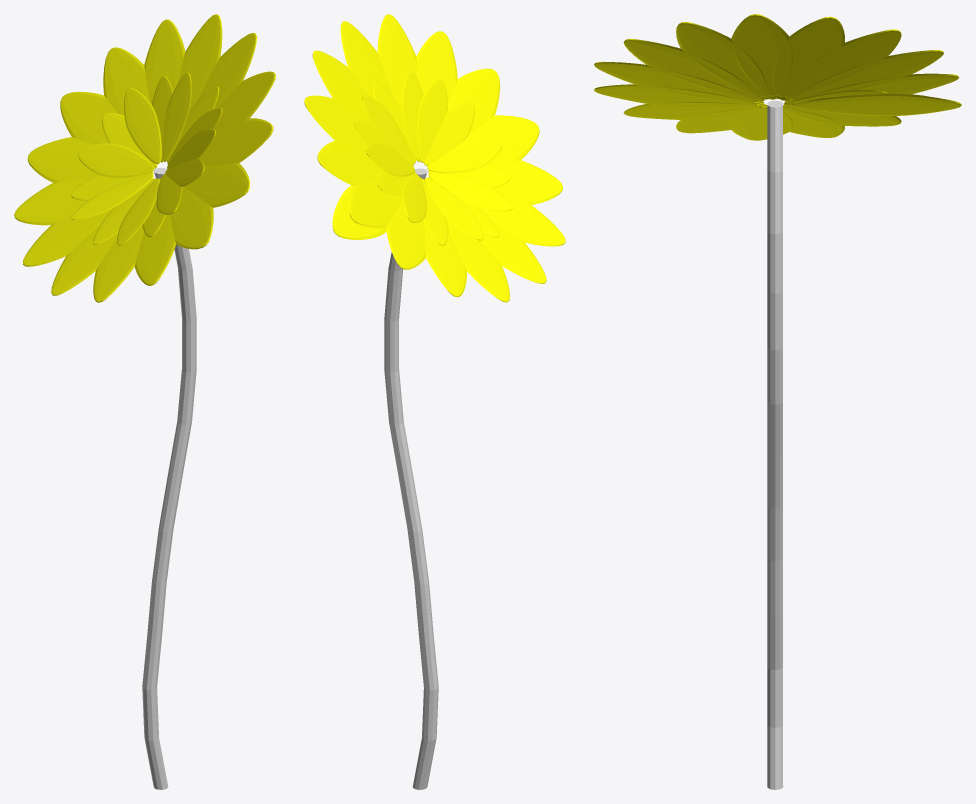
Rendered from m_flower_01.fbx.
The picture shows the model from 3 angles, left to right: view 1: azimuth 30°, elevation 25°; view 2: azimuth 150°, elevation 25°; view 3: azimuth 270°, elevation 25°; orthographic projection. The views are drawn at different scales.
Visible parts, largest first — view 1: group1_pPlane17, group2_pPlane17, pCylinder1; view 2: group1_pPlane17, group2_pPlane17, pCylinder1; view 3: group1_pPlane17, pCylinder1, group2_pPlane17.
Boxes of the visible parts, x1,y1,x2,y2 form: group1_pPlane17: (14,14,275,302); group2_pPlane17: (71,72,222,245); pCylinder1: (142,167,196,789); group1_pPlane17: (304,14,565,302); group2_pPlane17: (354,72,512,245); pCylinder1: (384,168,438,789); group1_pPlane17: (594,14,961,140); pCylinder1: (767,100,783,789); group2_pPlane17: (756,90,887,107).
Bounding box in the file's own units: 66.35 × 230 × 93.87.
